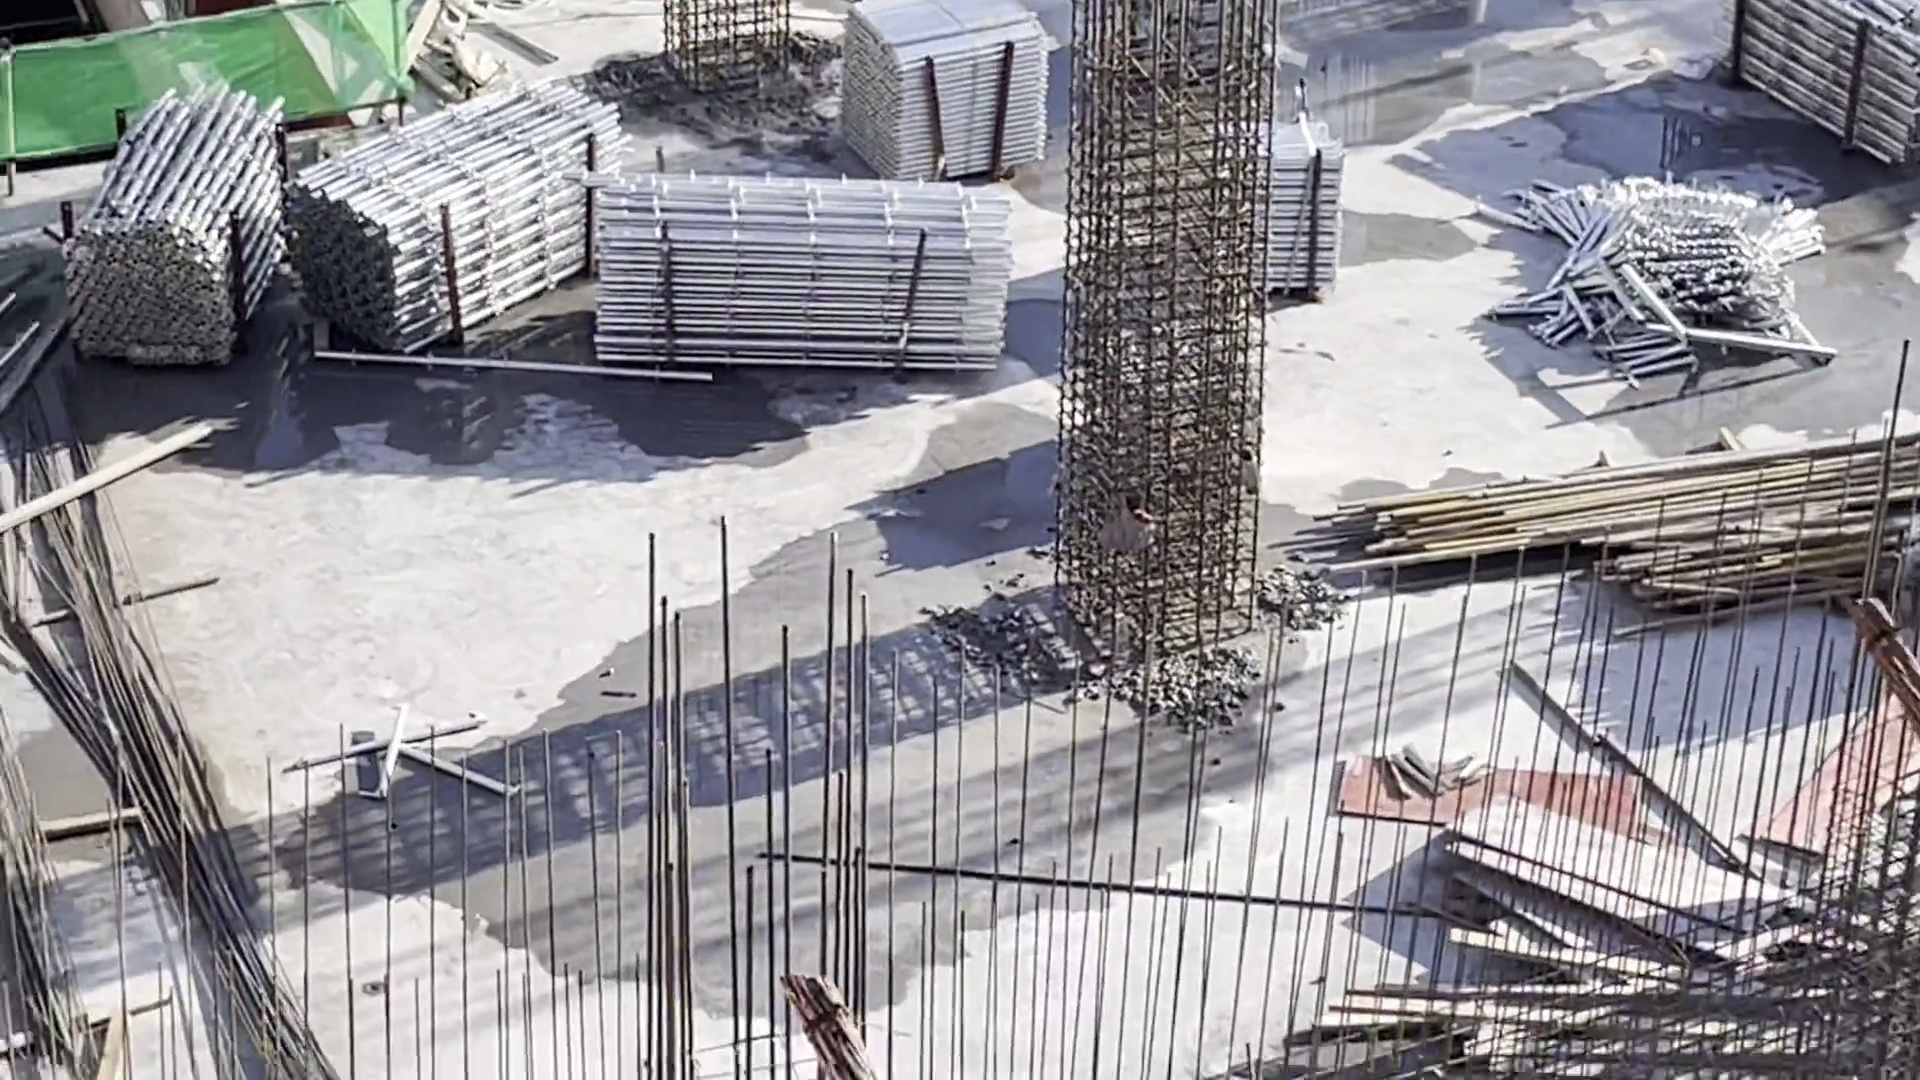board: (1419, 814, 1785, 993)
rebar: (17, 455, 367, 1080), (1, 702, 105, 1069)
scaffold: (299, 98, 615, 342), (584, 182, 982, 360), (76, 107, 286, 357), (1544, 195, 1811, 385), (848, 1, 1047, 158), (1725, 1, 1920, 149), (1255, 160, 1352, 305)
wood: (1387, 951, 1793, 1080)
